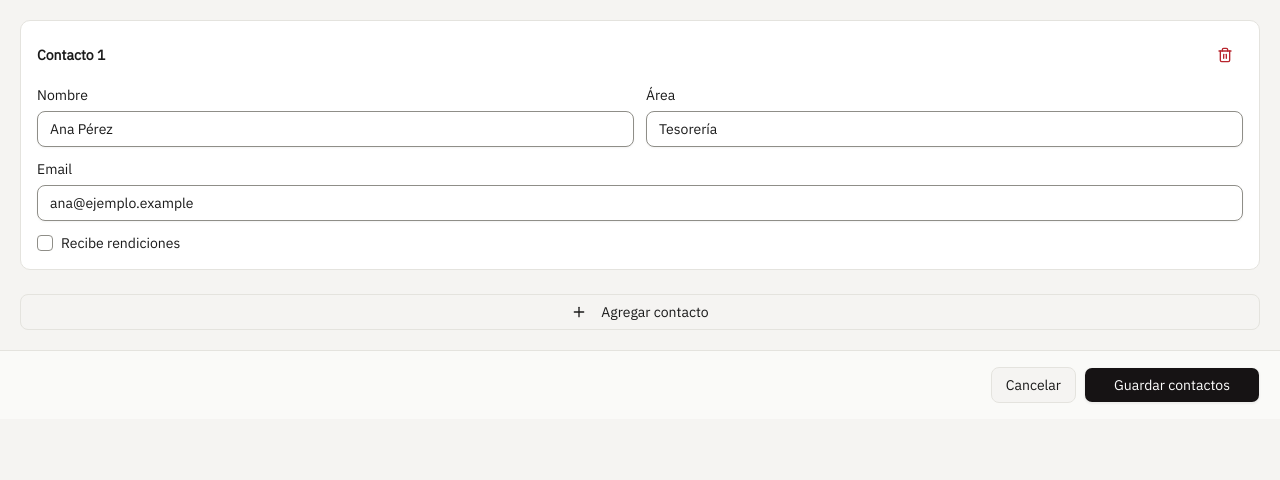
Scenario: ContactosForm: errores del servidor › el aviso general se va al reintentar con éxito
Click the button "Guardar contactos".
click(1172, 385)  # box 1084,367 -> 1260,403
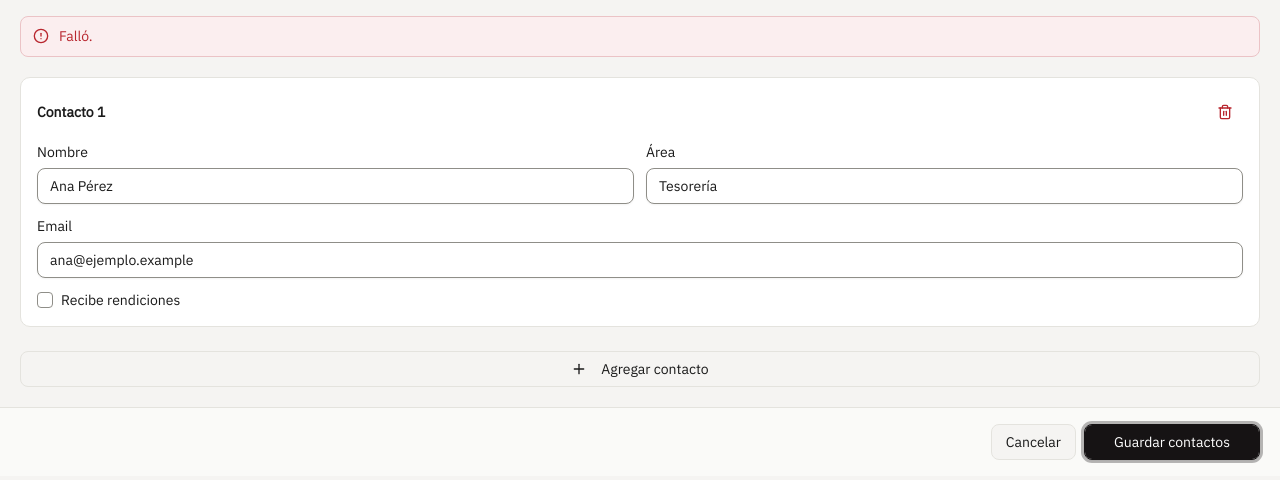
Now the message "Falló." is shown, box 20,16 -> 1260,57
Click the button "Guardar contactos".
click(1172, 442)  # box 1084,424 -> 1260,460
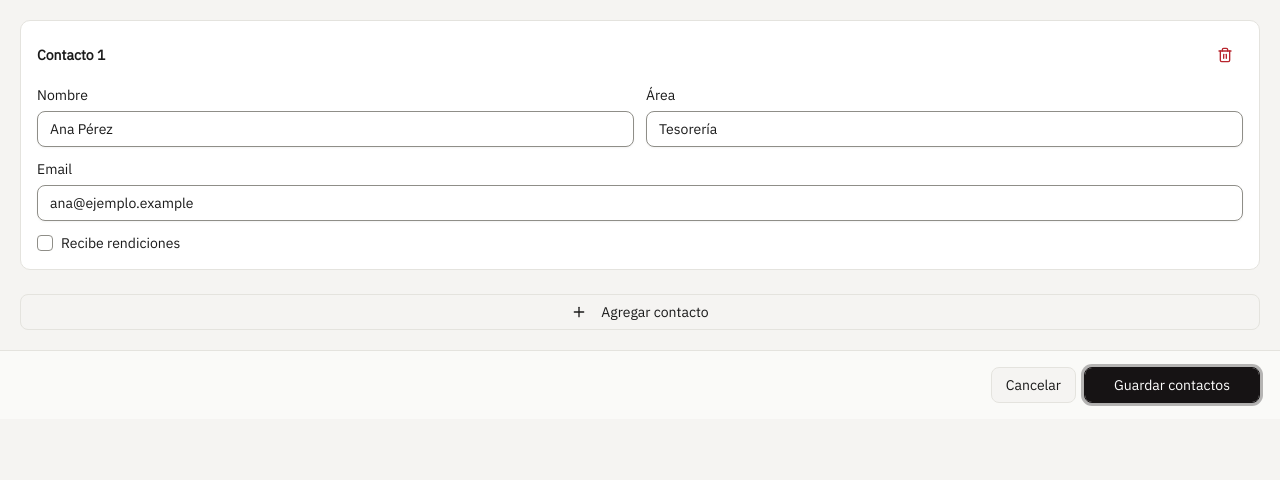
Now the message "Falló." is gone
